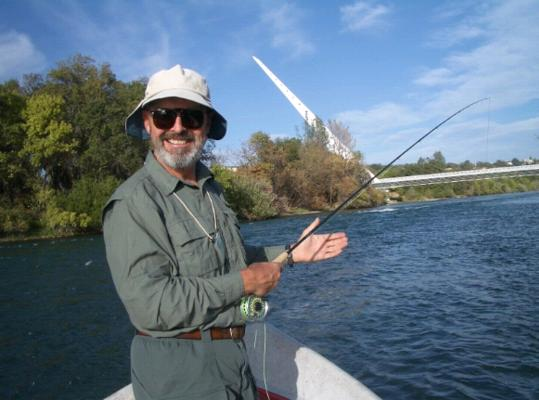person: (100, 67, 351, 400)
